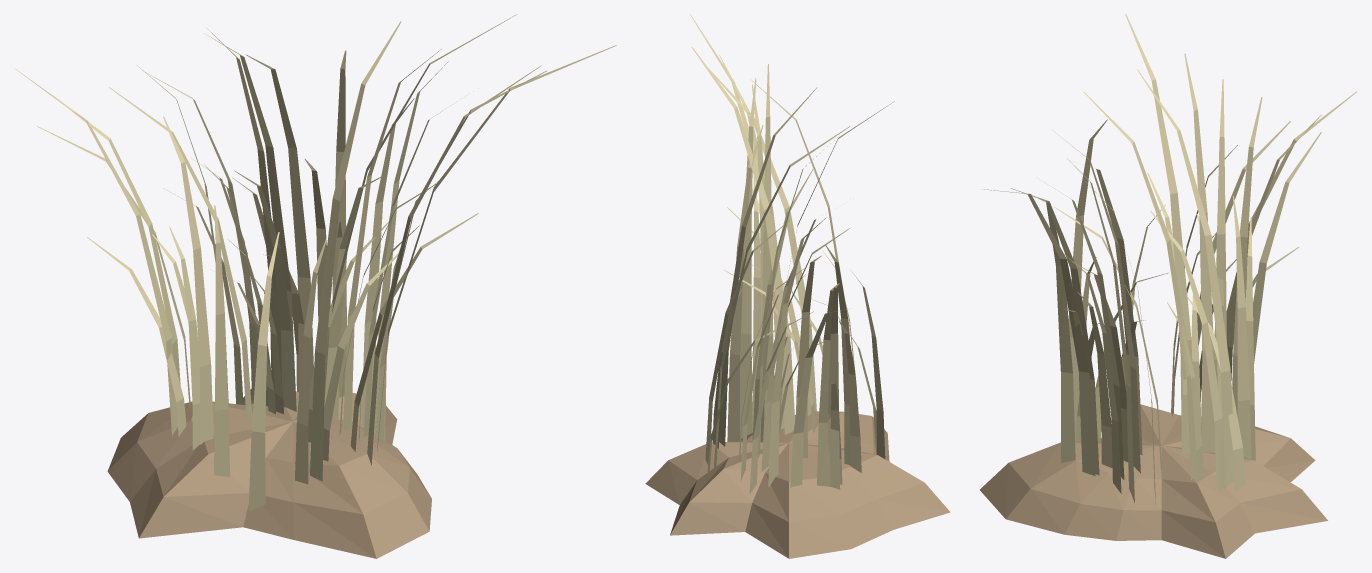
File: temperate-forest-ecology-purple-moor-grass-tussock-56681188__3849.glb
3 views of the same model, side by side, from view 1: azimuth 30°, elevation 25°; view 2: azimuth 150°, elevation 25°; view 3: azimuth 270°, elevation 25° (orthographic). The views are drawn at different scales.
Visible parts, largest first — view 1: purple-moor-grass-tussock; view 2: purple-moor-grass-tussock; view 3: purple-moor-grass-tussock.
Boxes of the visible parts, x1,y1,x2,y2 form: purple-moor-grass-tussock: (15, 14, 616, 558); purple-moor-grass-tussock: (645, 14, 950, 558); purple-moor-grass-tussock: (980, 14, 1357, 558).
Size of the model in its own units: 0.8592 by 1.01 by 0.7903.
